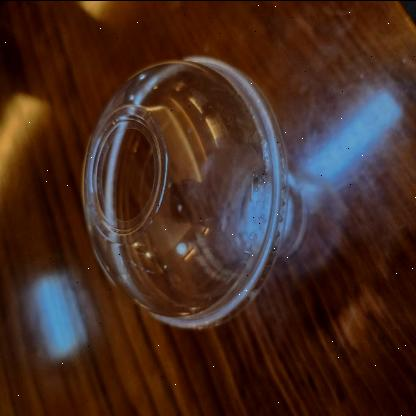Others: (85, 52, 305, 330)
